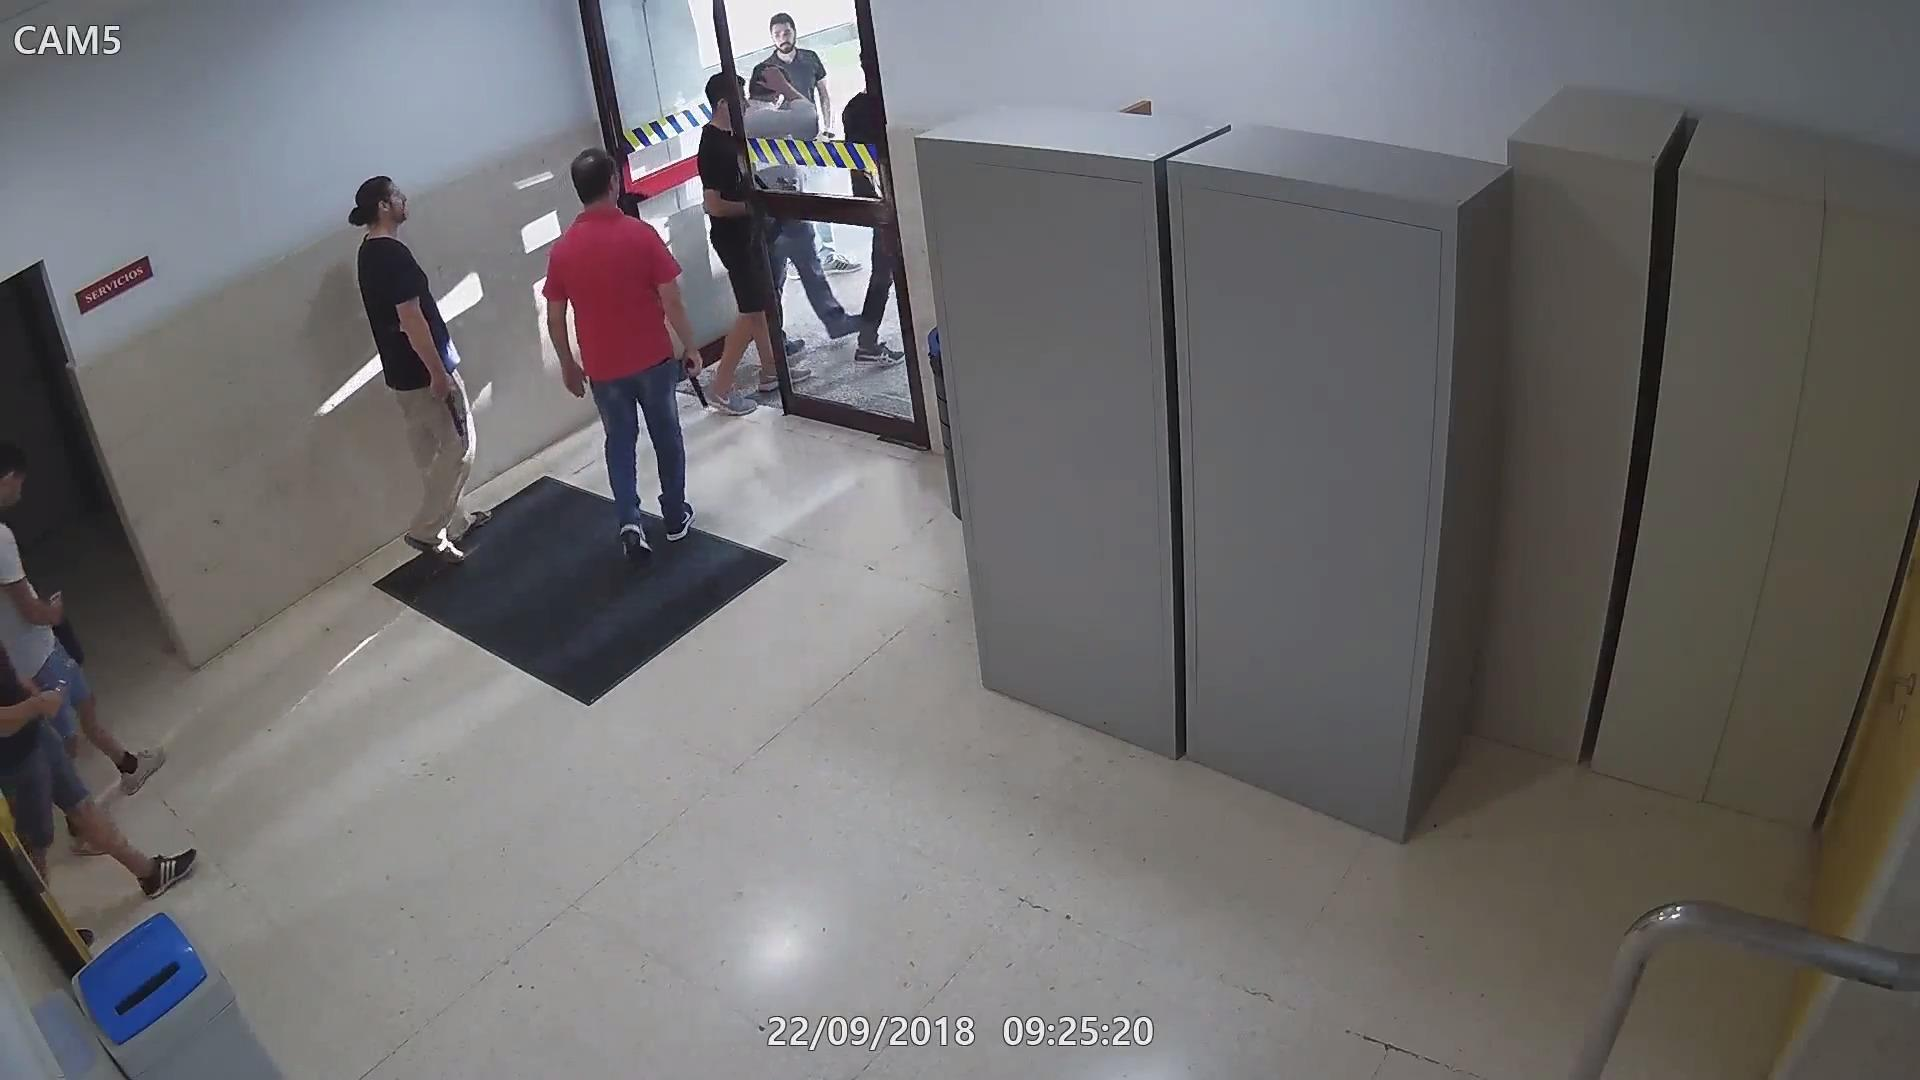Handgun: (674, 338, 712, 417), (33, 674, 67, 729)
